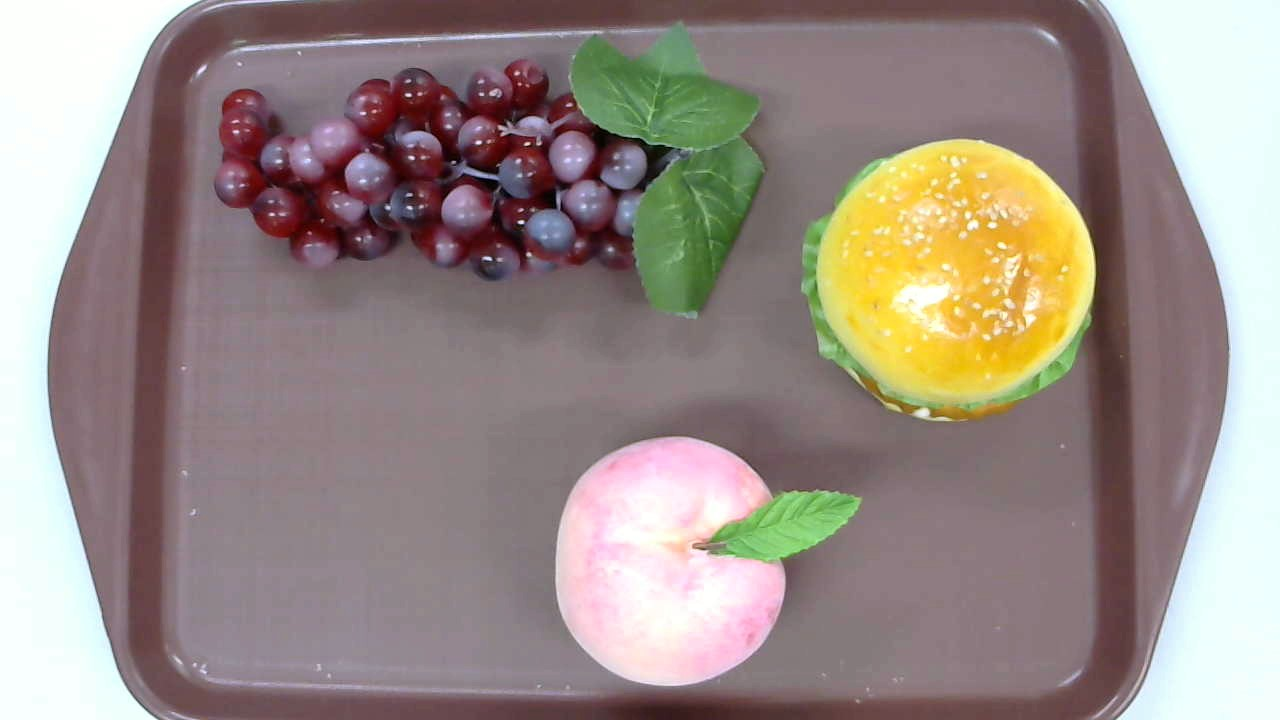grape: (213, 20, 765, 321)
hamburger: (801, 139, 1097, 422)
peach: (554, 437, 862, 687)
